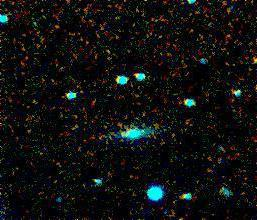star: (104, 119, 134, 149)
